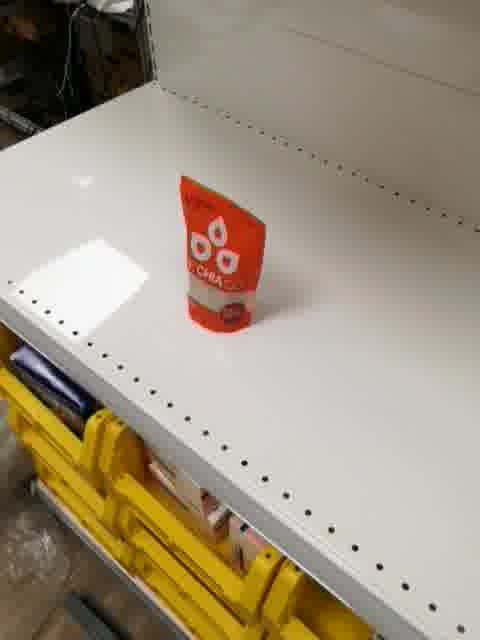whitechia: (177, 169, 268, 336)
